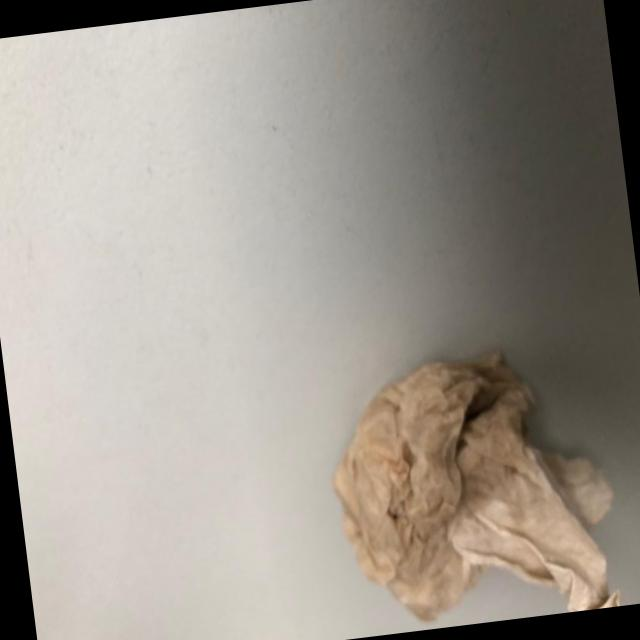organic waste: (303, 330, 626, 640)
